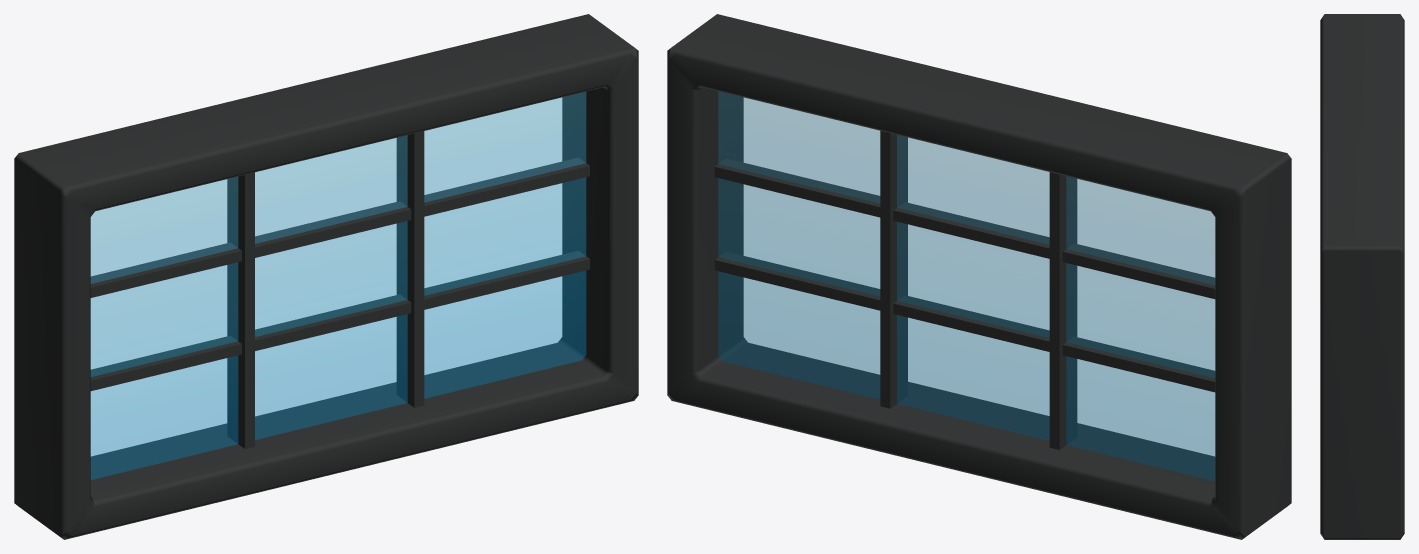
The model's file is Window_Black_02.glb.
The picture shows the model from 3 angles, left to right: view 1: azimuth 30°, elevation 25°; view 2: azimuth 150°, elevation 25°; view 3: azimuth 270°, elevation 25°; orthographic projection. The views are drawn at different scales.
Visible parts, largest first — view 1: Window_Black_02; view 2: Window_Black_02; view 3: Window_Black_02.
Part boxes in pixels (x1=…): Window_Black_02: x1=14, y1=14, x2=638, y2=539; Window_Black_02: x1=667, y1=14, x2=1291, y2=539; Window_Black_02: x1=1320, y1=14, x2=1404, y2=539.
Bounding box in the file's own units: 2.64 × 1.54 × 0.4.
2 materials, 2 textured.
